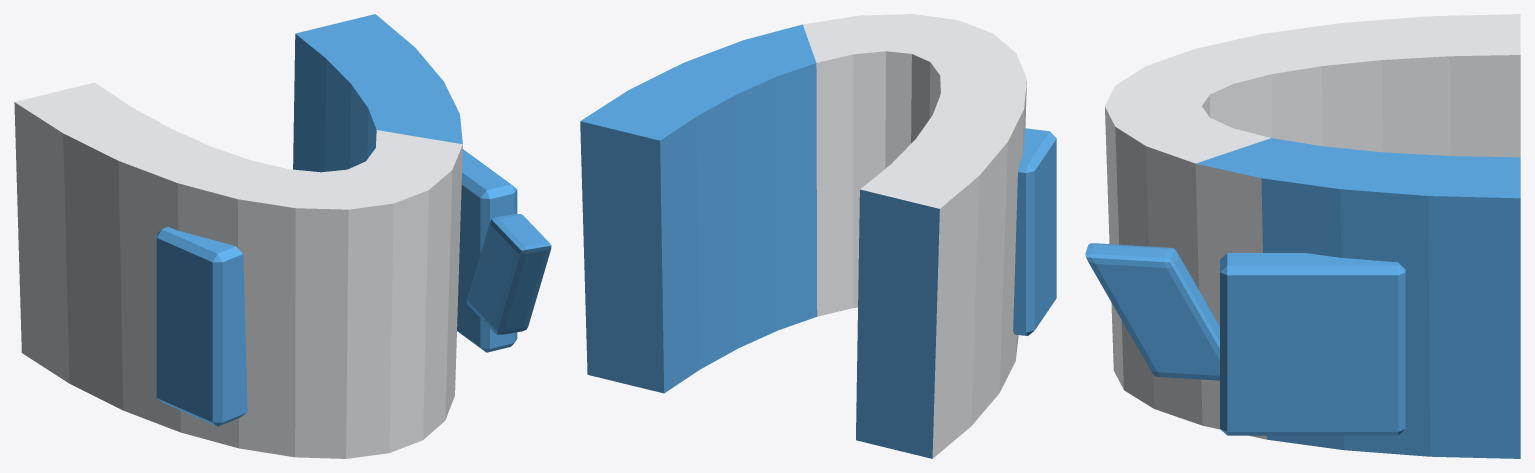
The model's file is left_shoulder__bold.glb.
The picture shows the model from 3 angles, left to right: view 1: azimuth 30°, elevation 25°; view 2: azimuth 150°, elevation 25°; view 3: azimuth 270°, elevation 25°; orthographic projection. The views are drawn at different scales.
Visible parts, largest first — view 1: armor_left_shoulder__bold_v001; view 2: armor_left_shoulder__bold_v001; view 3: armor_left_shoulder__bold_v001.
Part boxes in pixels (box(x1,y1,x2,y2)): armor_left_shoulder__bold_v001: box(14, 14, 551, 458); armor_left_shoulder__bold_v001: box(580, 14, 1056, 458); armor_left_shoulder__bold_v001: box(1085, 14, 1520, 458).
Size of the model in its own units: 0.1772 by 0.118 by 0.1761.
